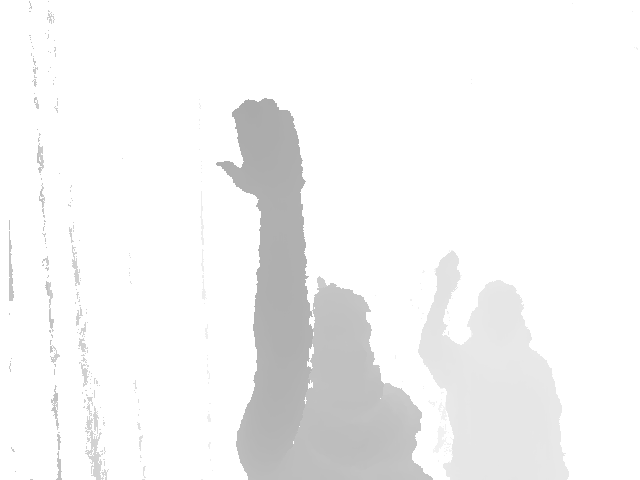hand: (219, 97, 307, 205), (434, 250, 461, 298)
head: (305, 277, 383, 401), (466, 274, 533, 360)
person: (218, 93, 428, 480), (418, 248, 576, 480)
